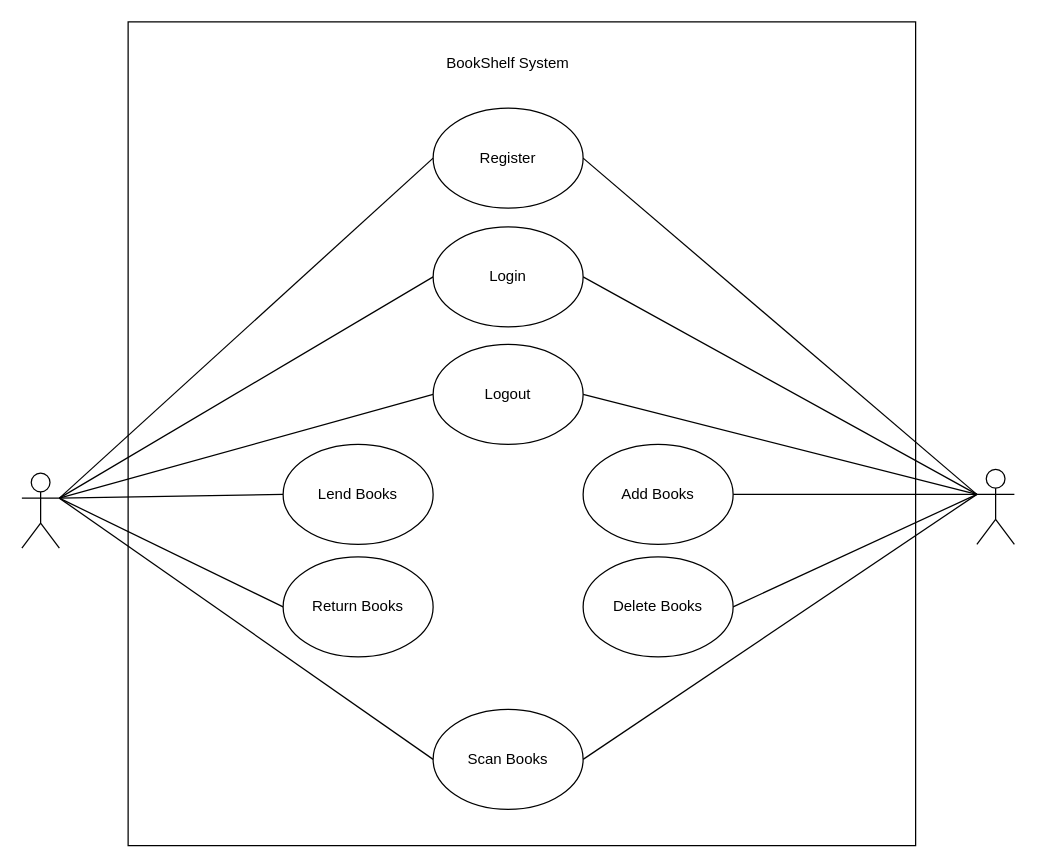
This 1046x868 diagram has some shape labels left out. The centre of each missing label's shape, as x and y in pixels:
"Manager" belongs at point (995, 506).
"User" belongs at point (40, 510).
